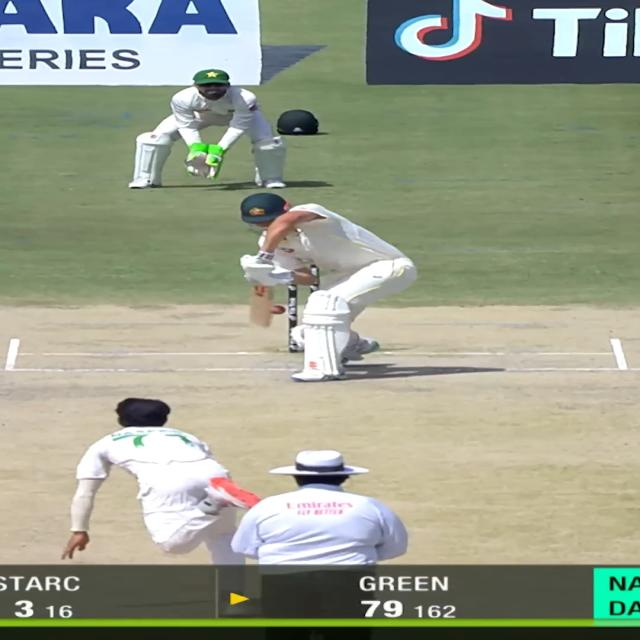Cricket ball: (271, 305, 286, 315)
